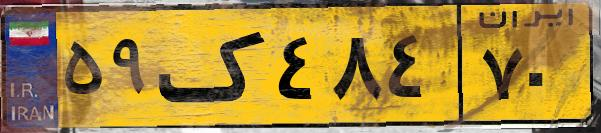0: (525, 38, 570, 115)
4: (270, 28, 330, 110), (385, 28, 445, 110)
5: (57, 26, 110, 100)
7: (475, 38, 525, 113)
8: (330, 28, 385, 110)
9: (110, 28, 158, 98)
ک: (158, 12, 270, 120)
